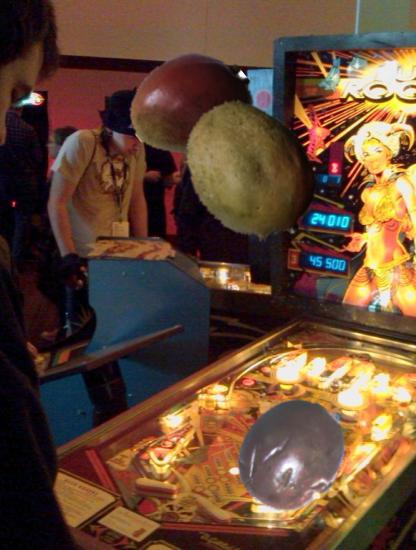Mango: (130, 45, 254, 169)
Papaya: (177, 95, 326, 244)
Passion: (232, 397, 351, 516)
